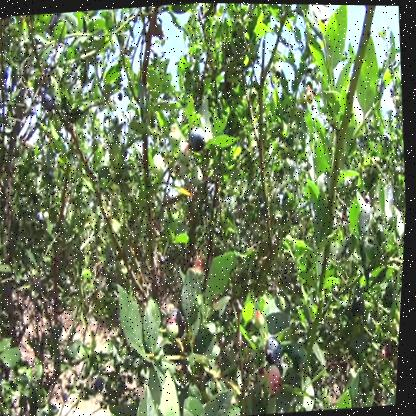intermediate: (265, 361, 292, 403), (181, 141, 197, 166)
mature: (262, 336, 291, 369), (187, 122, 211, 154), (41, 88, 58, 112)
young: (150, 151, 172, 183), (165, 123, 187, 151), (167, 315, 186, 341), (190, 163, 208, 189), (255, 310, 273, 330), (301, 87, 317, 107)
